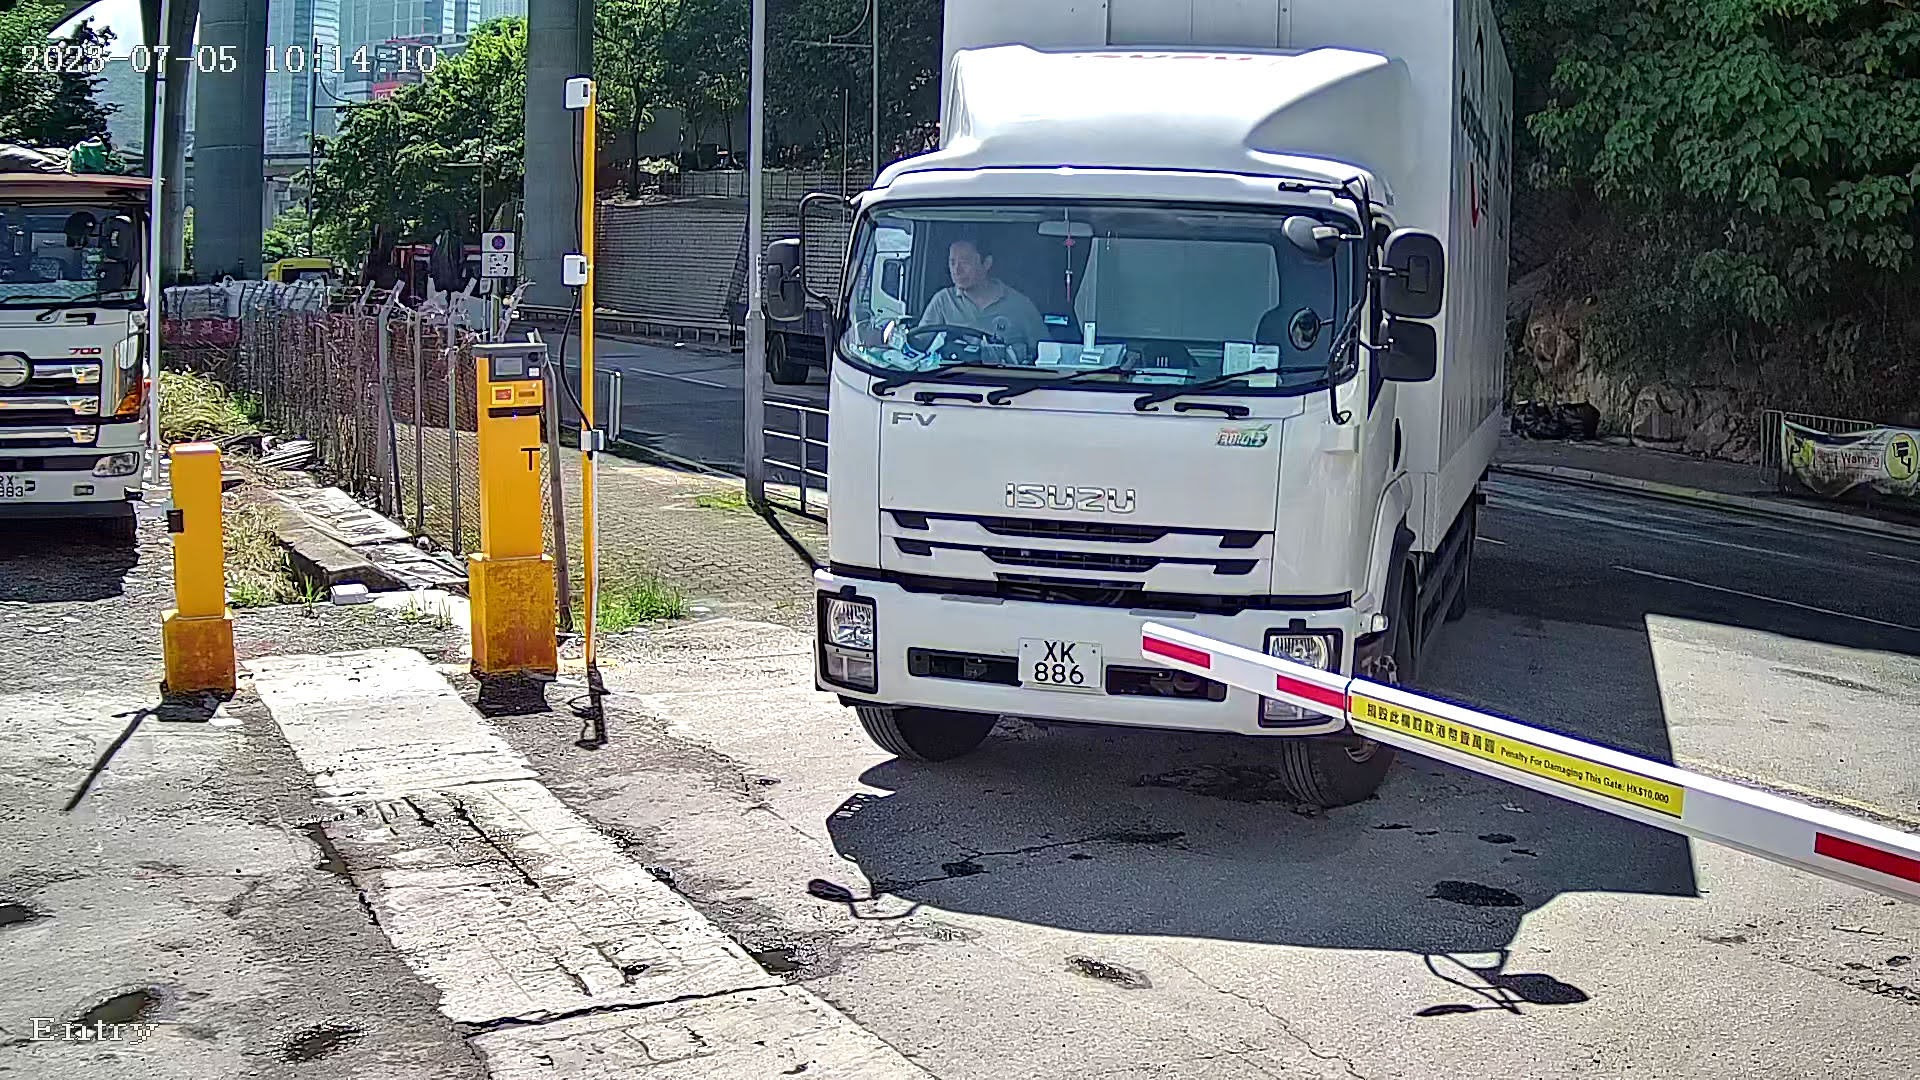truck: (744, 1, 1567, 793)
